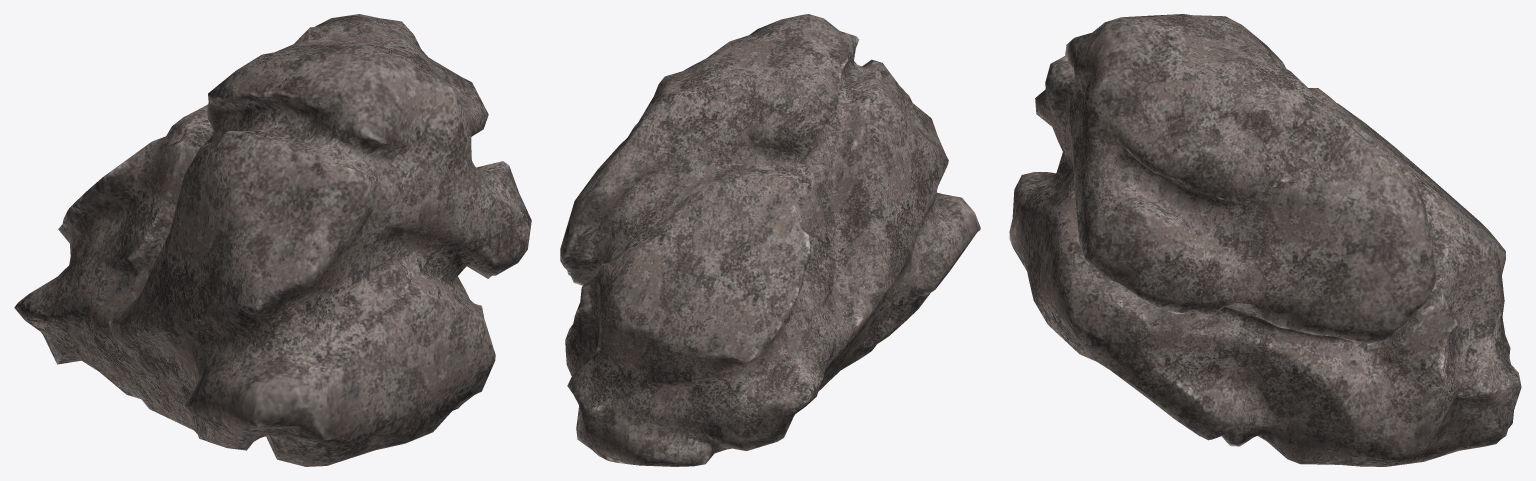
File: s__rock_01_lowpoly.glb
The picture shows the model from 3 angles, left to right: view 1: azimuth 30°, elevation 25°; view 2: azimuth 150°, elevation 25°; view 3: azimuth 270°, elevation 25°; orthographic projection. The views are drawn at different scales.
Parts seen in each view (by area): view 1: L_S_Rock_01; view 2: L_S_Rock_01; view 3: L_S_Rock_01.
Boxes of the visible parts, left/top/right/bottom form: L_S_Rock_01: left=14, top=14, right=531, bottom=466; L_S_Rock_01: left=560, top=14, right=980, bottom=466; L_S_Rock_01: left=1009, top=14, right=1521, bottom=466.
Size of the model in its own units: 1.28 by 1.62 by 1.84.
Materials: 1 (1 with a texture image).
